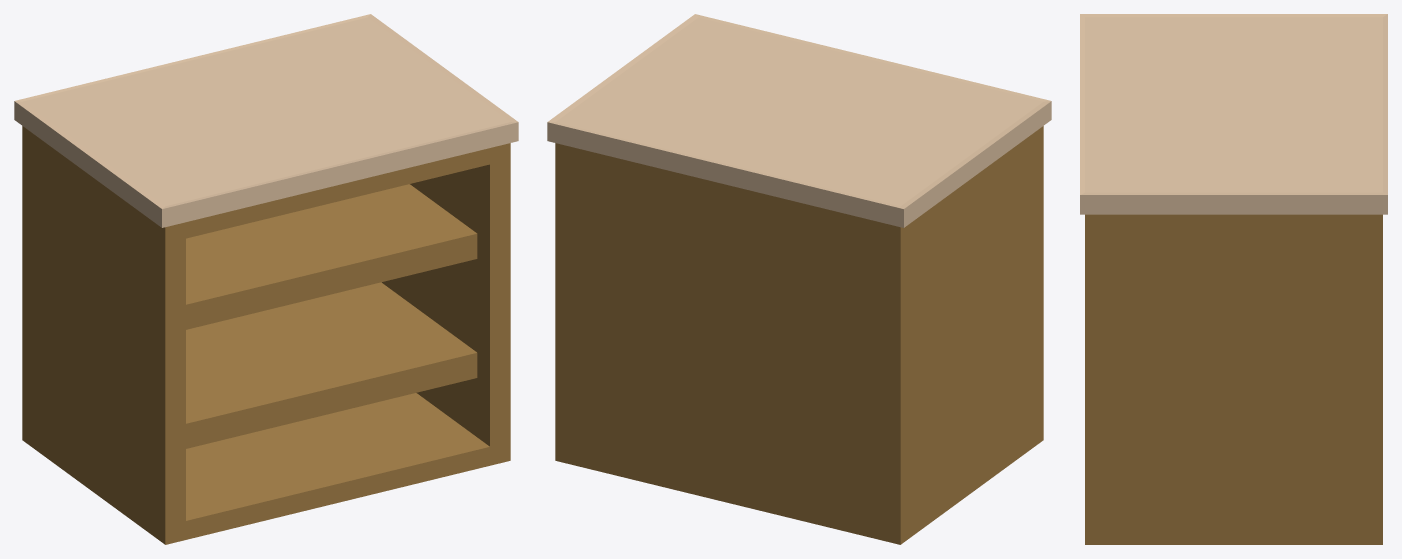
Rendered from Counter.fbx.
3 renders of one model, left to right at view 1: azimuth 30°, elevation 25°; view 2: azimuth 150°, elevation 25°; view 3: azimuth 270°, elevation 25°, orthographic. The views are drawn at different scales.
Parts seen in each view (by area): view 1: Counter, Shelf2, Shelf1; view 2: Counter; view 3: Counter.
Boxes of the visible parts, <box> form: Counter: <box>14,14,518,544</box>; Shelf2: <box>186,282,477,448</box>; Shelf1: <box>186,184,477,329</box>; Counter: <box>547,14,1051,544</box>; Counter: <box>1080,14,1387,544</box>.
Bounding box in the file's own units: 1.75 × 1.59 × 1.25.
